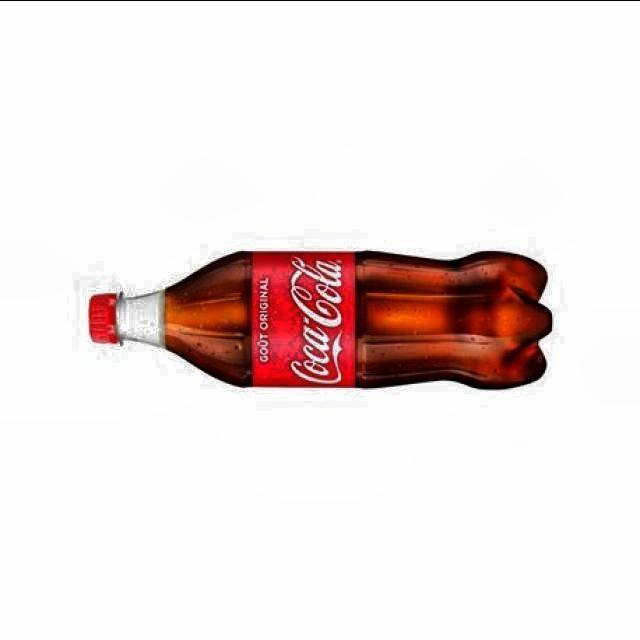plastic: (90, 253, 554, 391)
